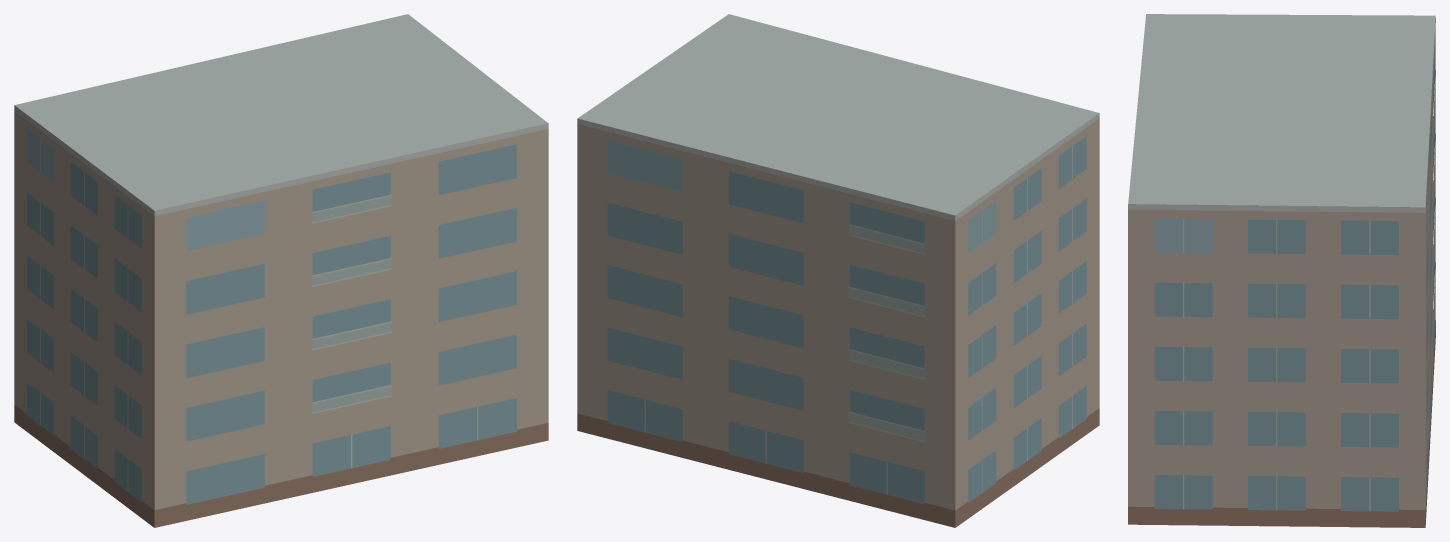
Rendered from survey-upis-33027642.glb.
The picture shows the model from 3 angles, left to right: view 1: azimuth 30°, elevation 25°; view 2: azimuth 150°, elevation 25°; view 3: azimuth 270°, elevation 25°; orthographic projection. The views are drawn at different scales.
Parts seen in each view (by area): view 1: survey-upis-33027642.tmp; view 2: survey-upis-33027642.tmp; view 3: survey-upis-33027642.tmp.
Part boxes in pixels (x1=…): survey-upis-33027642.tmp: x1=14, y1=14, x2=548, y2=527; survey-upis-33027642.tmp: x1=577, y1=14, x2=1099, y2=527; survey-upis-33027642.tmp: x1=1128, y1=14, x2=1435, y2=527.
Bounding box in the file's own units: 17.98 × 13.9 × 12.1.
